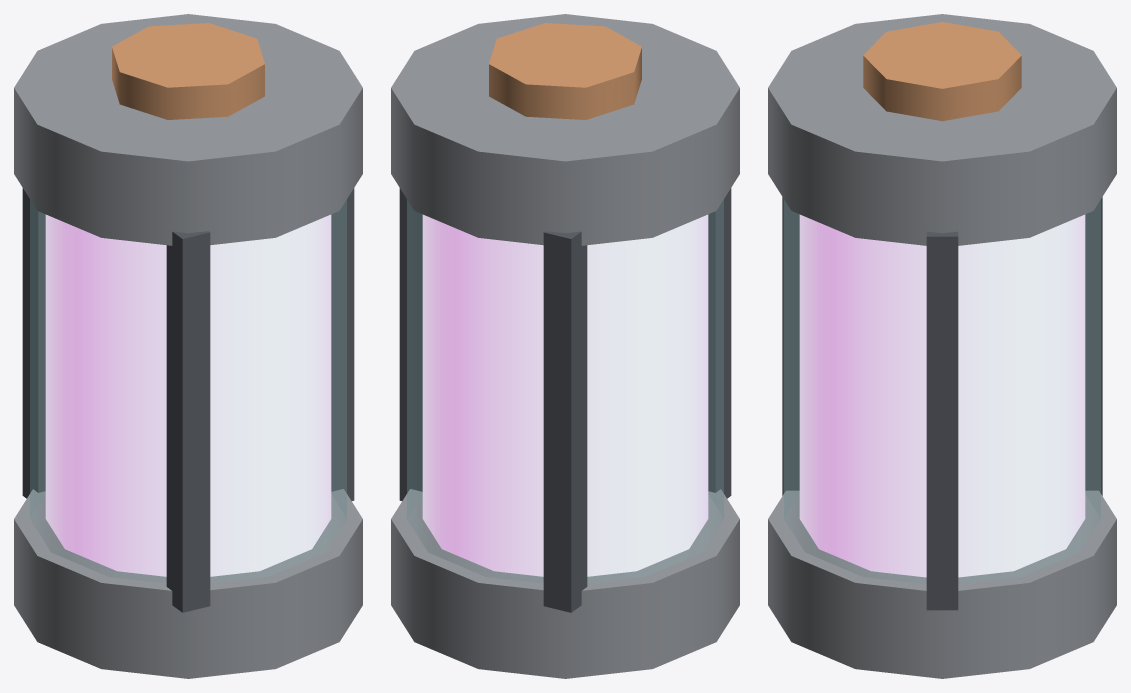
The model's file is item_fuel_cell_big.glb.
3 renders of one model, left to right at view 1: azimuth 30°, elevation 25°; view 2: azimuth 150°, elevation 25°; view 3: azimuth 270°, elevation 25°, orthographic.
Parts seen in each view (by area): view 1: fuel_cell; view 2: fuel_cell; view 3: fuel_cell.
Part boxes in pixels (x1=…): fuel_cell: x1=14, y1=14, x2=362, y2=678; fuel_cell: x1=391, y1=14, x2=739, y2=678; fuel_cell: x1=768, y1=14, x2=1116, y2=678.
Size of the model in its own units: 0.3375 by 0.6075 by 0.33.
